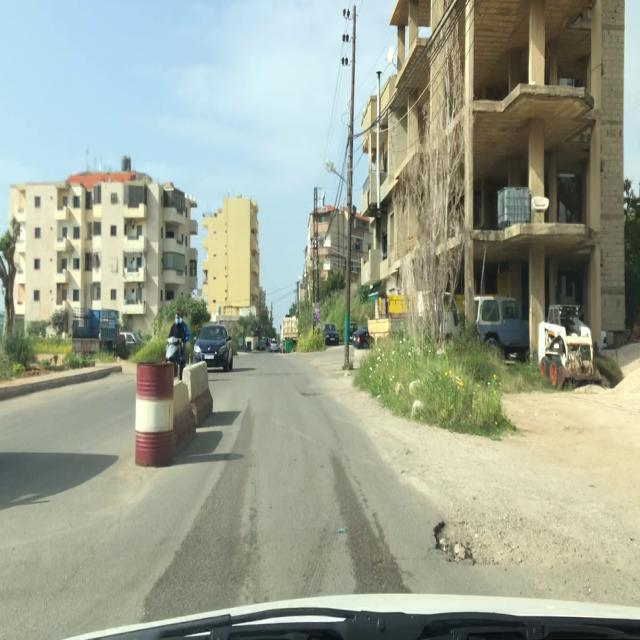Pothole: (433, 517, 498, 569)
